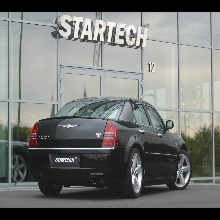no damage: (27, 96, 192, 198)
